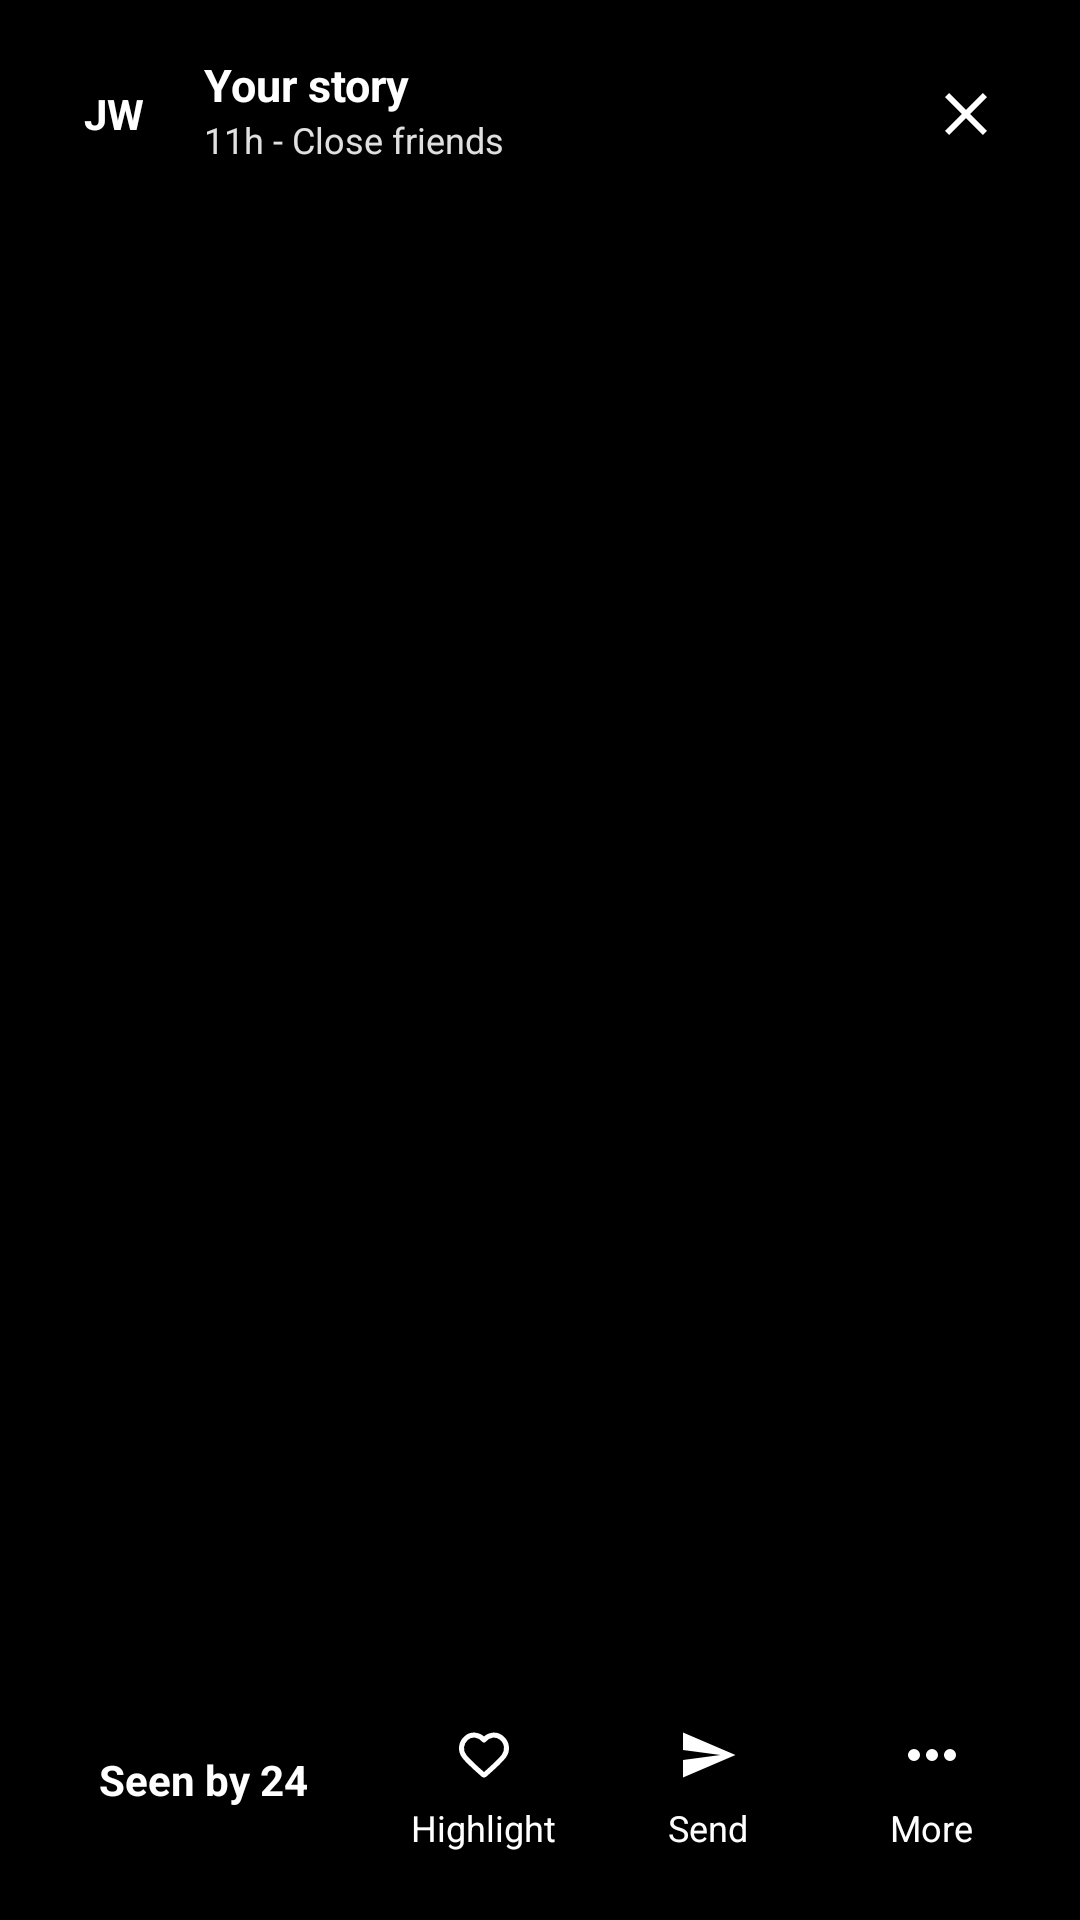

Screen size 1080×1920. Icon name, then its box in pixels as (x1, y1, x2, y2):
close: (945, 93, 987, 135)
meatballs menu: (908, 1749, 956, 1761)
